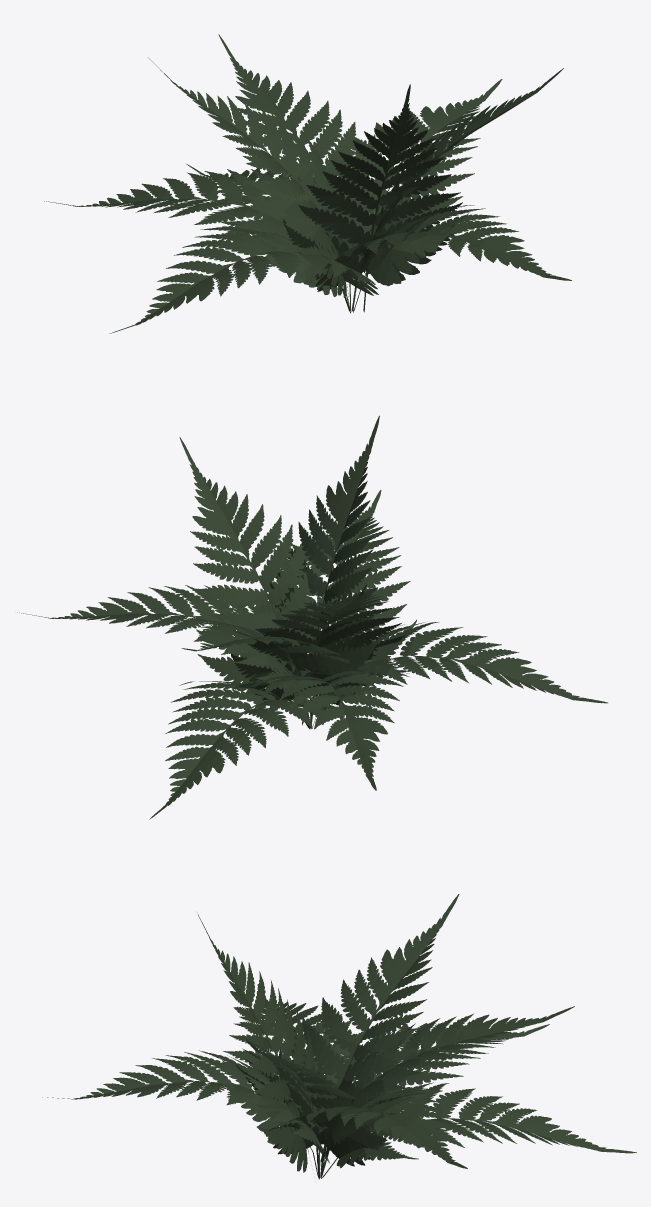
File: Samabaia_Inteira.fbx
3 views of the same model, one above another, from view 1: azimuth 30°, elevation 25°; view 2: azimuth 150°, elevation 25°; view 3: azimuth 270°, elevation 25° (orthographic). The views are drawn at different scales.
Parts seen in each view (by area): view 1: Plane.007; view 2: Plane.007; view 3: Plane.007.
Part boxes in pixels (x1,y1,x2,y2): Plane.007: (44, 34, 571, 333); Plane.007: (17, 415, 607, 819); Plane.007: (42, 894, 636, 1179).
Size of the model in its own units: 78.61 by 38.02 by 78.92.
Materials: 1 (1 with a texture image).
